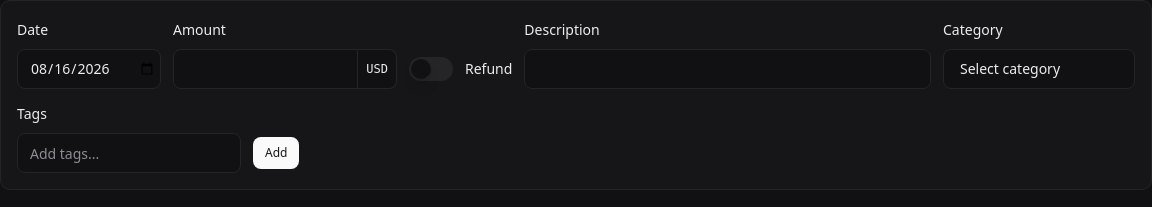
Test: TransactionEntryRow › shows inline errors for missing amount, description, and category
The width and height of the screenshot is (1152, 207).
Click the button "Add" at (276, 153), box [253, 137, 299, 169]
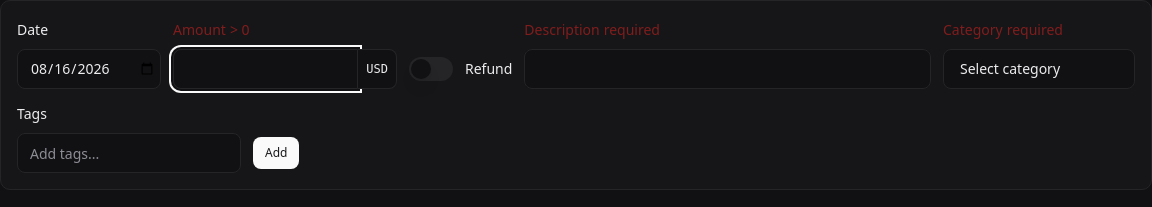
Result: the text "> 0" is shown at [230, 20, 250, 39]
